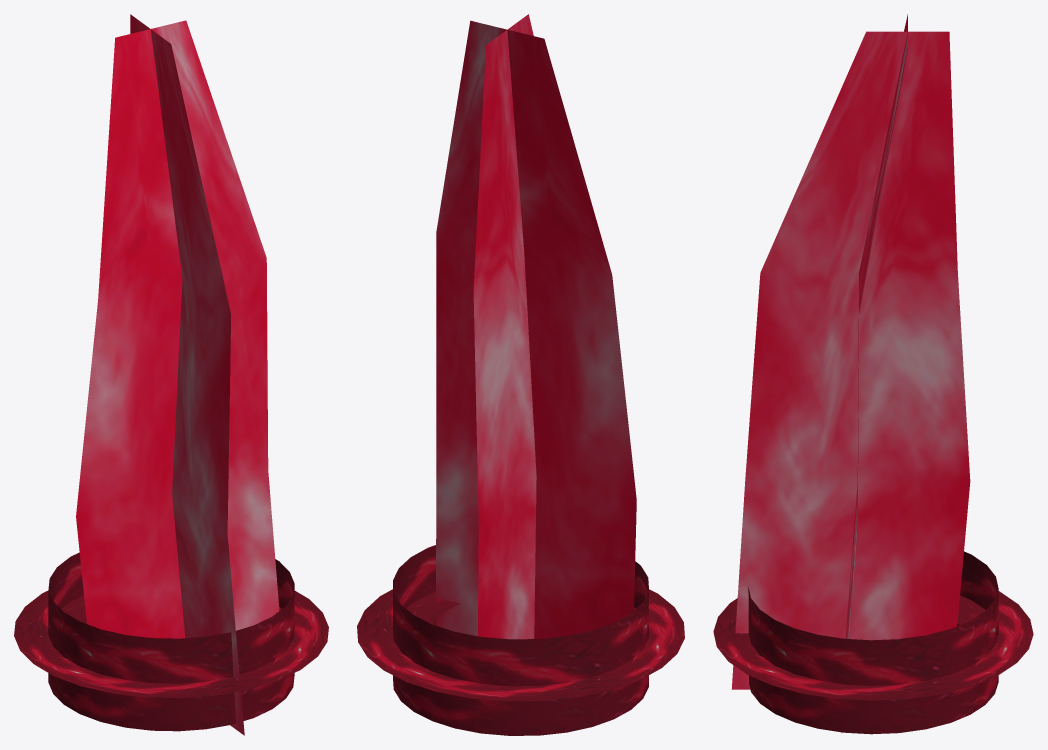
File: baoleizhixin.FBX
The picture shows the model from 3 angles, left to right: view 1: azimuth 30°, elevation 25°; view 2: azimuth 150°, elevation 25°; view 3: azimuth 270°, elevation 25°; orthographic projection. The views are drawn at different scales.
Parts seen in each view (by area): view 1: 2_1, 4_1, 4_2, 4_3; view 2: 2_1, 4_3, 4_1, 4_2; view 3: 2_1, 4_2, 4_3, 4_1.
Part boxes in pixels (x1,y1,x2,y2): 2_1: (76,14,279,735); 4_1: (14,590,247,731); 4_2: (231,559,328,724); 4_3: (14,552,86,635); 2_1: (436,14,636,639); 4_3: (357,585,611,735); 4_1: (592,561,684,726); 4_2: (357,545,460,627); 2_1: (731,14,970,733); 4_2: (713,587,940,734); 4_3: (926,551,1033,729); 4_1: (713,598,737,631).
Size of the model in its own units: 123 by 278 by 123.
